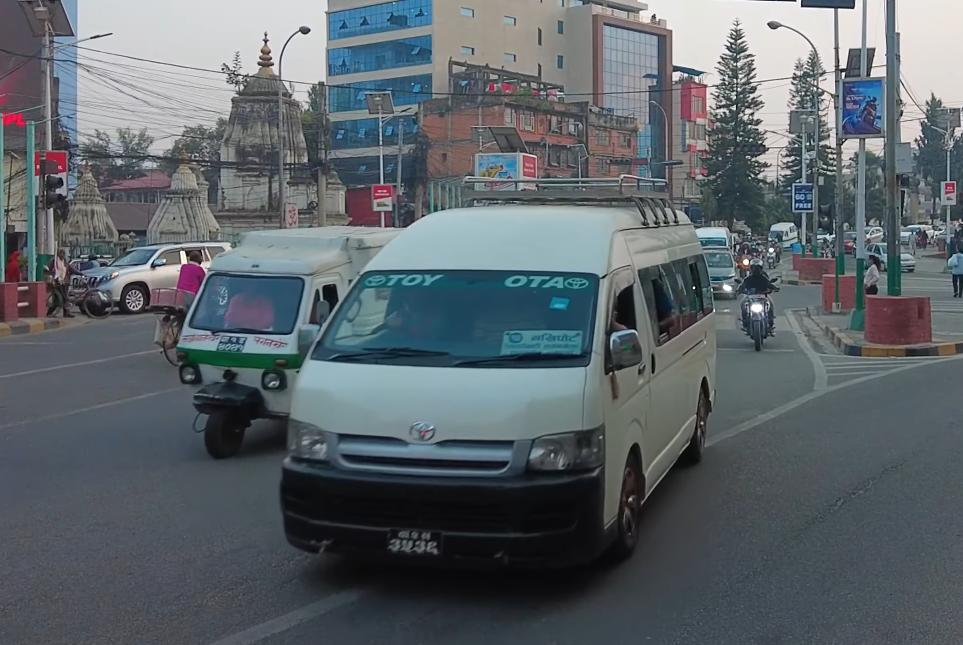SUV: (69, 238, 226, 315)
bike: (734, 272, 789, 355)
micro_bus: (278, 176, 726, 580)
tempo: (167, 224, 376, 462)
